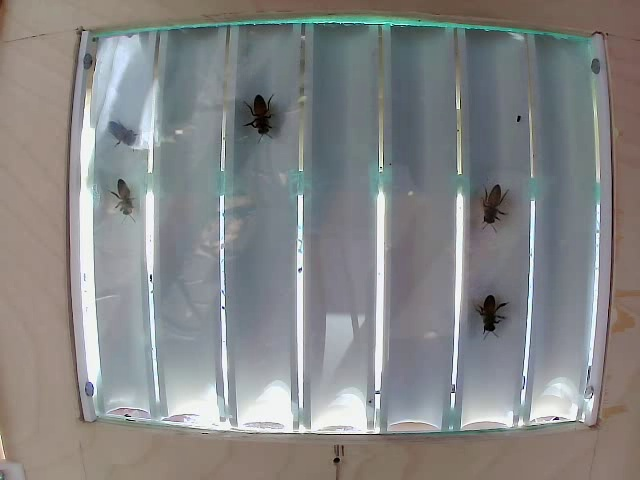bee: (463, 285, 502, 333), (480, 187, 507, 223), (96, 116, 142, 137), (241, 106, 271, 138), (120, 183, 145, 213)
